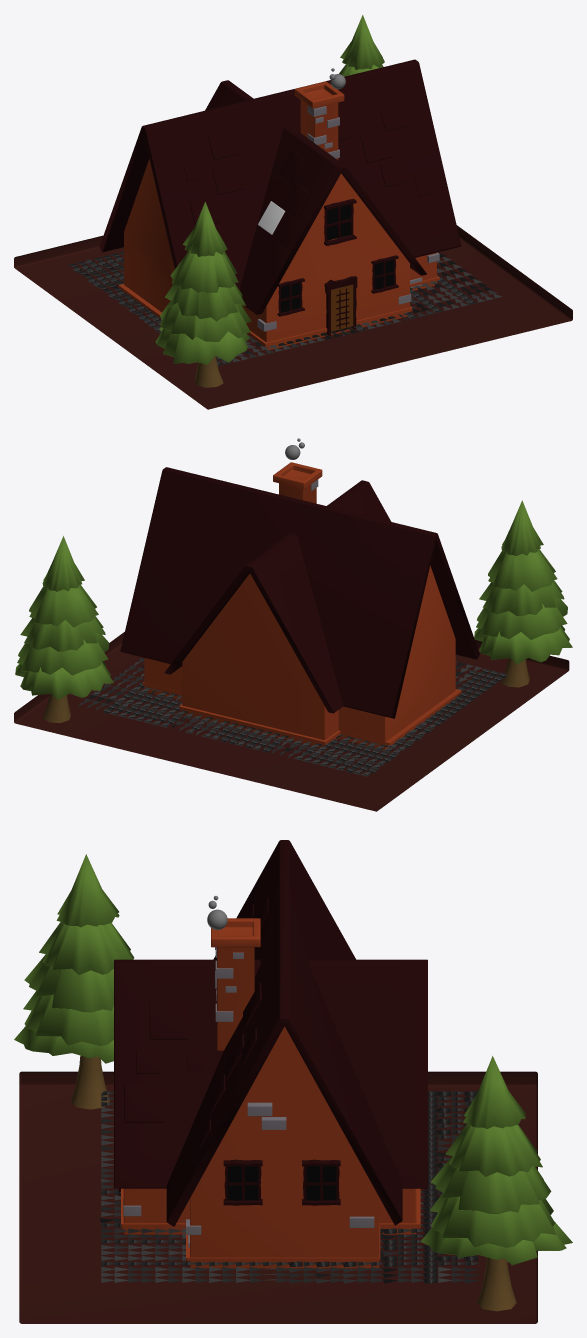
The model's file is barbershop_18.glb.
The picture shows the model from 3 angles, top to bottom: view 1: azimuth 30°, elevation 25°; view 2: azimuth 150°, elevation 25°; view 3: azimuth 270°, elevation 25°; orthographic projection. The views are drawn at different scales.
Parts seen in each view (by area): view 1: Cube.003, Plane.008, Cube, Circle.001, Cube.001, Cube.002, Plane.001, Cube.079, Circle, Cube.076, Cube.056, Cube.060 (+12 smaller); view 2: Cube.003, Plane.008, Cube, Circle.001, Circle, Cube.001, Cube.002, Plane.001, Cube.079, Cube.077, Cube.078; view 3: Plane.008, Cube.001, Cube.003, Cube.002, Circle, Circle.001, Plane.001, Cube.079, Cube, Cube.077, Cube.045, Cube.048 (+4 smaller).
Part boxes in pixels (box(x1,y1,x2,y2)): Cube.003: box(99, 59, 461, 289); Plane.008: box(14, 225, 572, 409); Cube: box(242, 173, 412, 350); Circle.001: box(155, 202, 251, 364); Cube.001: box(205, 80, 426, 314); Cube.002: box(119, 159, 439, 318); Plane.001: box(67, 251, 502, 365); Cube.079: box(294, 81, 344, 159); Circle: box(339, 15, 384, 76); Cube.076: box(331, 284, 353, 331); Cube.056: box(360, 130, 391, 163); Cube.060: box(207, 127, 238, 159); Cube.003: box(120, 467, 479, 718); Plane.008: box(14, 632, 569, 811); Cube: box(179, 573, 340, 747); Circle.001: box(474, 500, 572, 664); Circle: box(15, 536, 113, 700); Cube.001: box(164, 480, 391, 713); Cube.002: box(142, 565, 461, 749); Plane.001: box(78, 658, 506, 776); Cube.079: box(273, 462, 322, 503); Cube.077: box(42, 693, 70, 722); Cube.078: box(501, 658, 529, 687); Plane.008: box(19, 1071, 537, 1323); Cube.001: box(114, 959, 427, 1188); Cube.003: box(166, 840, 402, 1226); Cube.002: box(186, 1026, 380, 1268); Circle: box(420, 1056, 572, 1265); Circle.001: box(14, 854, 134, 1063); Plane.001: box(99, 1091, 479, 1283); Cube.079: box(211, 918, 260, 1050); Cube: box(121, 1188, 420, 1234); Cube.077: box(477, 1257, 516, 1311); Cube.045: box(149, 1002, 188, 1039); Cube.048: box(124, 1085, 163, 1122).
Bounding box in the file's own units: 4.09 × 2.39 × 3.78.
